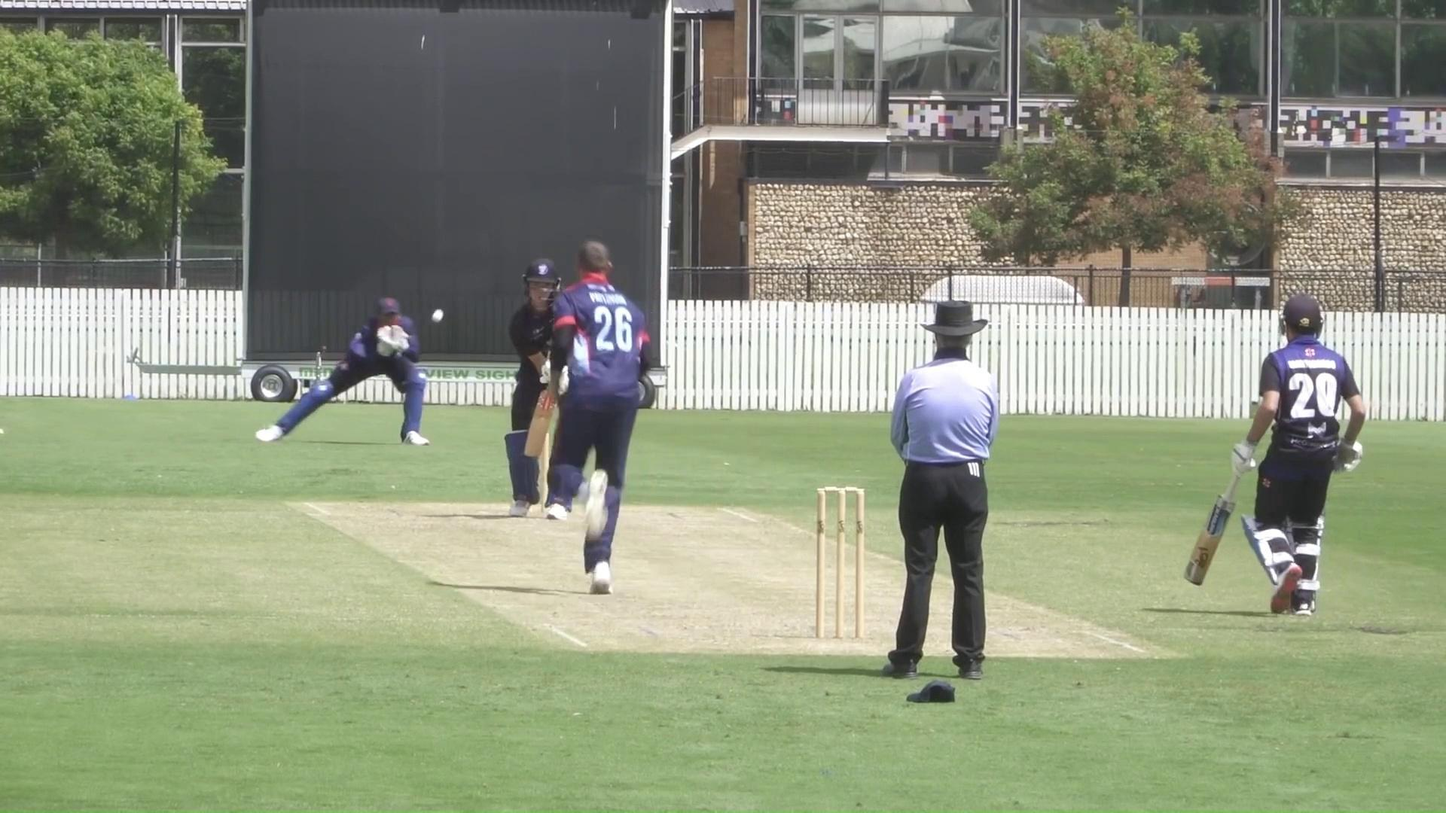ball: (429, 305, 446, 327)
